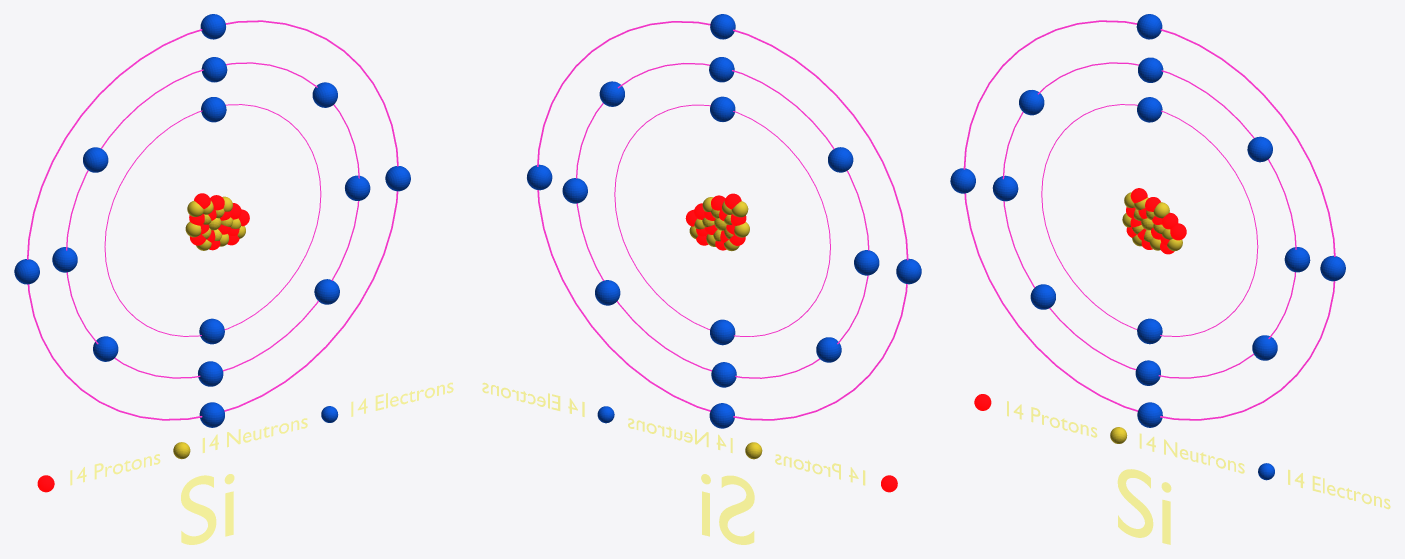
File: silicon.glb
The picture shows the model from 3 angles, left to right: view 1: azimuth 30°, elevation 25°; view 2: azimuth 150°, elevation 25°; view 3: azimuth 330°, elevation 25°; orthographic projection.
Parts seen in each view (by area): view 1: BézierCircle.002, Text, BézierCircle.001, BézierCircle, Text.002, Text.003, Sphere.015, Sphere.022, Sphere.033, Sphere.002, Sphere.030, Sphere.043 (+8 smaller); view 2: BézierCircle.002, Text, BézierCircle.001, BézierCircle, Text.002, Text.003, Sphere.009, Sphere.001, Sphere.020, Sphere.016, Sphere.030, Sphere.032 (+9 smaller); view 3: BézierCircle.002, Text, BézierCircle.001, BézierCircle, Text.002, Text.003, Sphere.033, Sphere.030, Sphere.043, Sphere.022, Sphere.037, Sphere.002 (+9 smaller).
Boxes of the visible parts, box(x1,y1,x2,y2) form: BézierCircle.002: box(27, 20, 398, 420); Text: box(181, 474, 234, 544); BézierCircle.001: box(66, 62, 359, 378); BézierCircle: box(104, 104, 321, 336); Text.002: box(202, 418, 307, 452); Text.003: box(351, 382, 453, 416); Sphere.015: box(201, 57, 227, 82); Sphere.022: box(312, 82, 337, 107); Sphere.033: box(14, 259, 39, 284); Sphere.002: box(201, 97, 226, 122); Sphere.030: box(314, 279, 339, 304); Sphere.043: box(200, 14, 225, 39); BézierCircle.002: box(537, 21, 908, 420); Text: box(701, 474, 754, 544); BézierCircle.001: box(576, 63, 869, 378); BézierCircle: box(614, 104, 830, 336); Text.002: box(628, 418, 732, 453); Text.003: box(482, 382, 584, 416); Sphere.009: box(562, 178, 587, 203); Sphere.001: box(710, 319, 735, 345); Sphere.020: box(816, 337, 841, 362); Sphere.016: box(854, 250, 879, 275); Sphere.030: box(595, 280, 620, 305); Sphere.032: box(711, 362, 736, 387); BézierCircle.002: box(963, 20, 1335, 420); Text: box(1117, 469, 1171, 544); BézierCircle.001: box(1002, 62, 1296, 378); BézierCircle: box(1041, 104, 1258, 336); Text.002: box(1139, 433, 1244, 473); Text.003: box(1288, 469, 1390, 509); Sphere.033: box(950, 168, 975, 193); Sphere.030: box(1252, 335, 1277, 360); Sphere.043: box(1136, 14, 1162, 39); Sphere.022: box(1247, 136, 1272, 162); Sphere.037: box(1137, 402, 1162, 427); Sphere.002: box(1137, 97, 1162, 122).
Bounding box in the file's own units: 4.74 × 5.44 × 0.2925.
